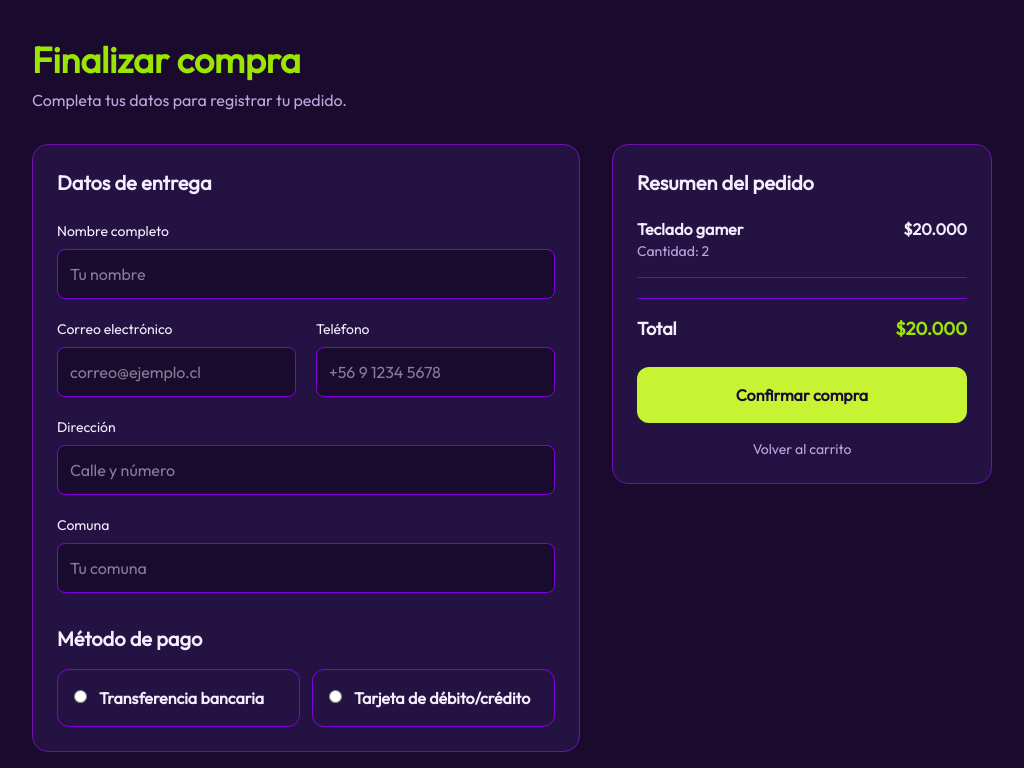
Checkout › registra la compra y vacía el carrito al confirmar
Type "Juan Pérez" into the field labelled "Nombre completo" at {"x": 306, "y": 274}, box 57,249 -> 555,299
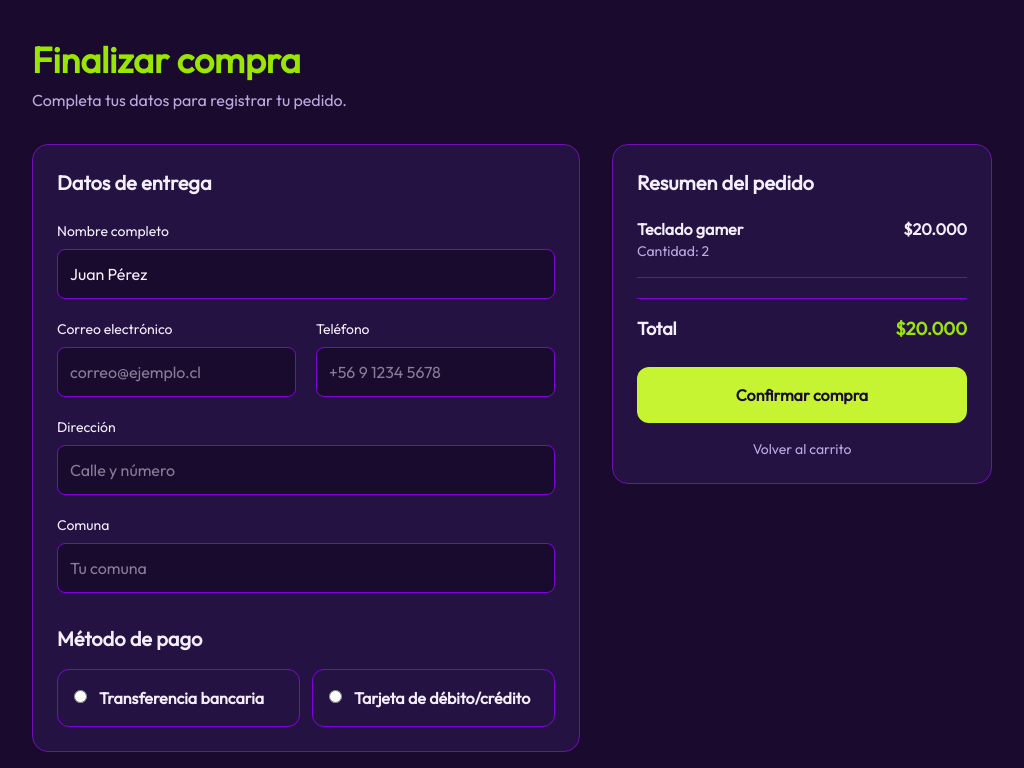
Type "juan@ejemplo.cl" into the field labelled "Correo electrónico" at {"x": 176, "y": 372}, box 57,347 -> 296,397
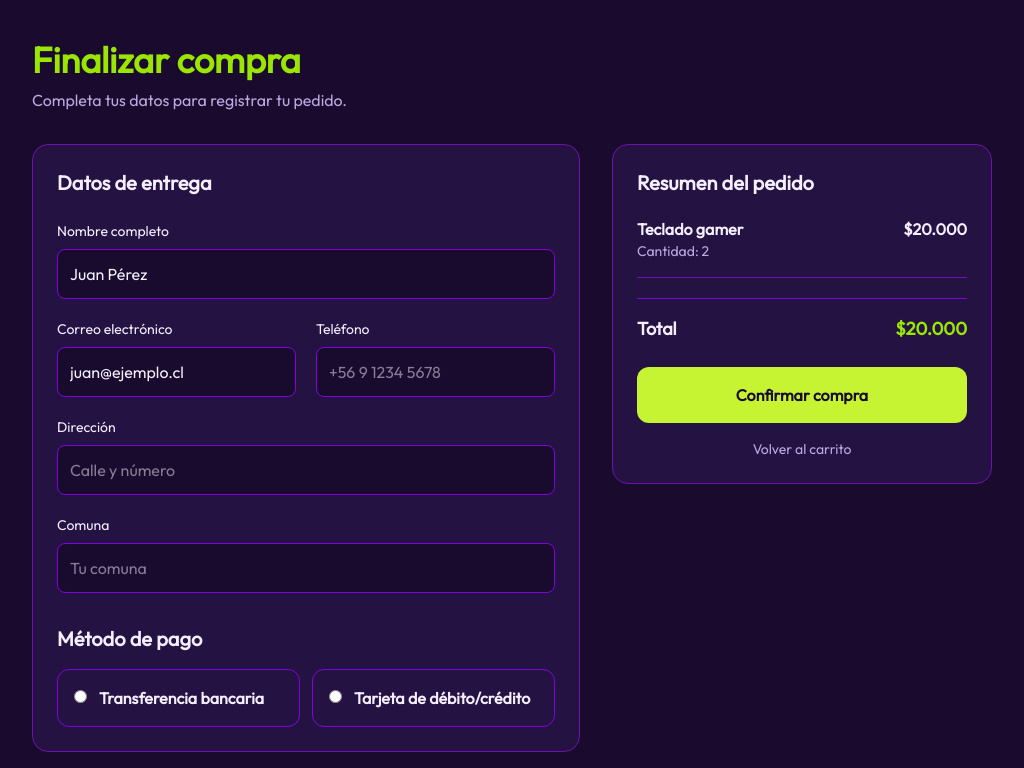
Type "912345678" into the field labelled "Teléfono" at {"x": 436, "y": 372}, box 316,347 -> 555,397
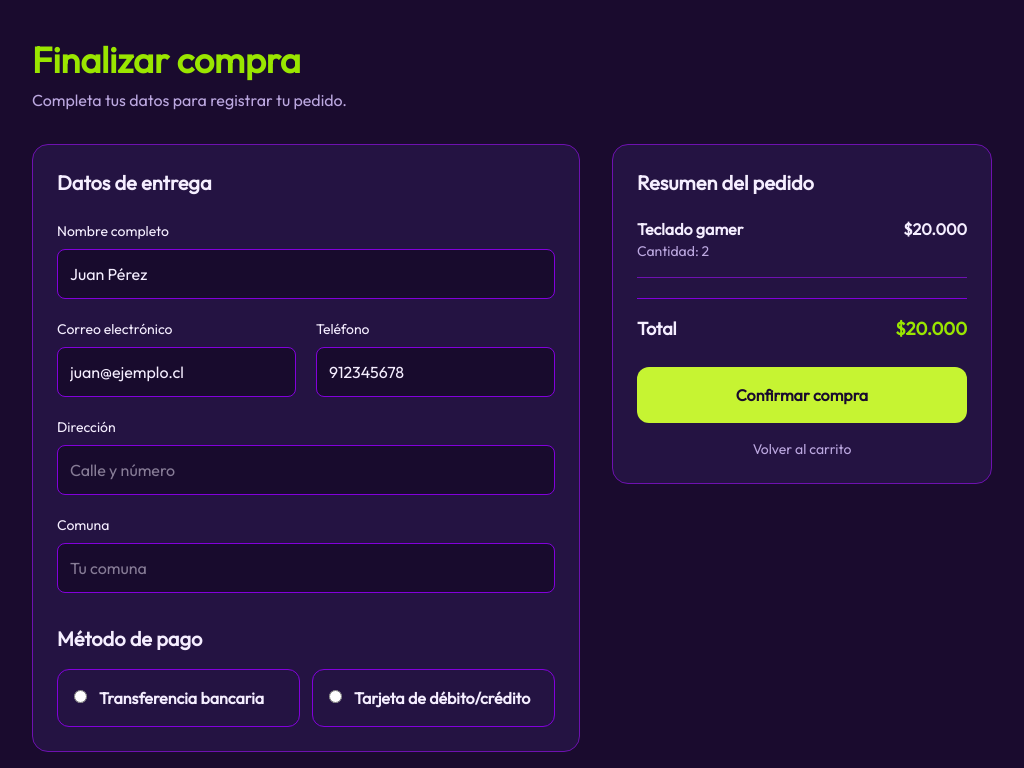
Type "Av. Central 123" into the field labelled "Dirección" at {"x": 306, "y": 470}, box 57,445 -> 555,495
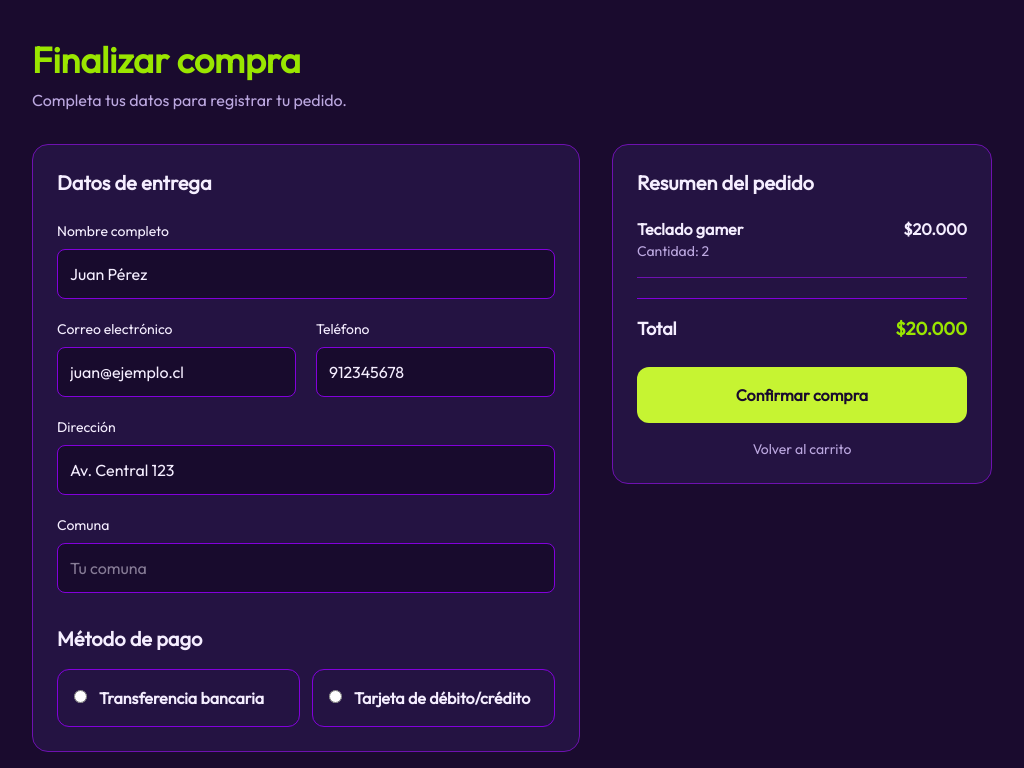
Type "Santiago" into the field labelled "Comuna" at {"x": 306, "y": 568}, box 57,543 -> 555,593
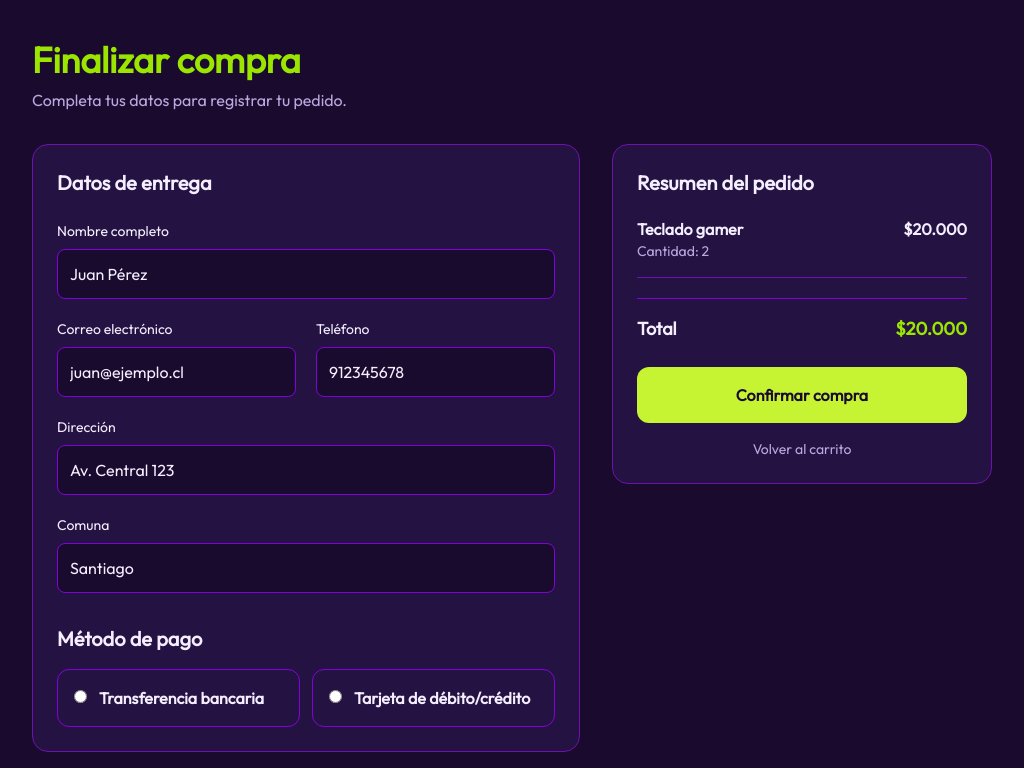
Click the button "Confirmar compra" at {"x": 802, "y": 395}, box 637,367 -> 967,423
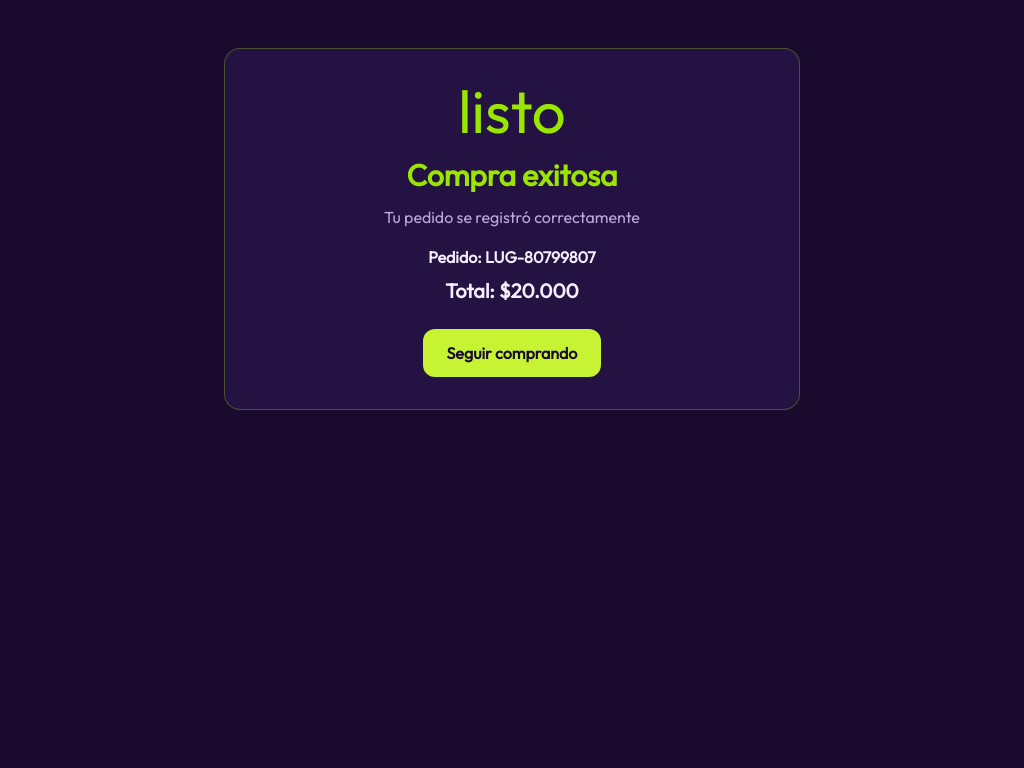
Expected: the heading "Compra exitosa" is shown, 407,156 -> 617,194
